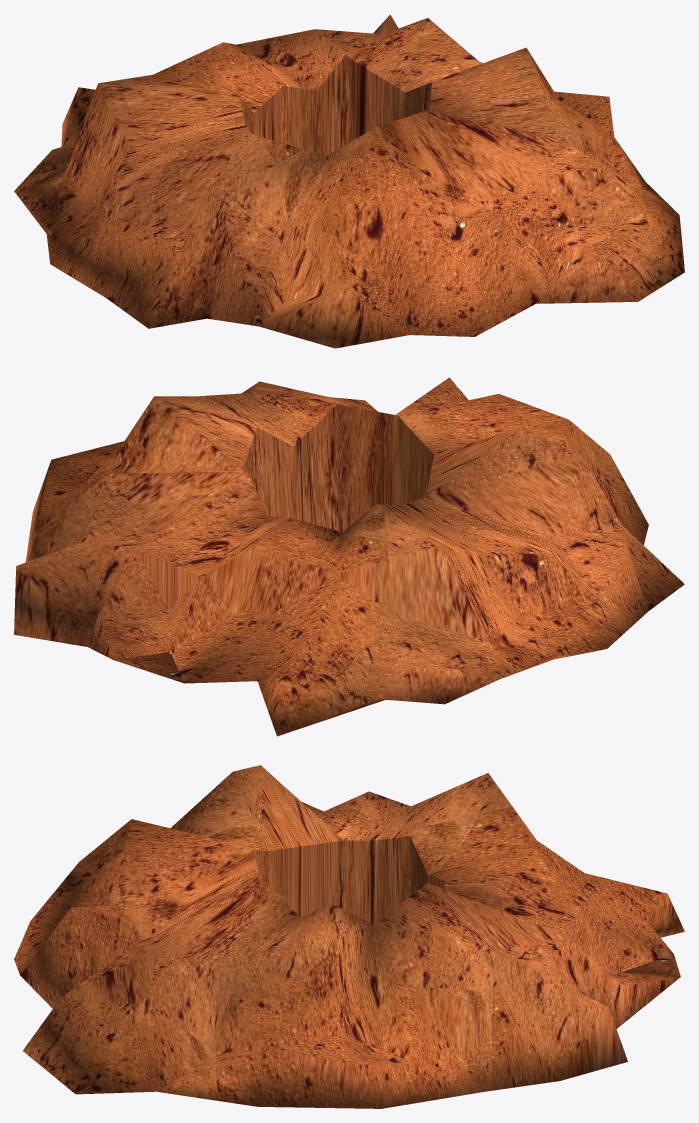
Rendered from Drill hole.obj.
3 views of the same model, one above another, from view 1: azimuth 30°, elevation 25°; view 2: azimuth 150°, elevation 25°; view 3: azimuth 270°, elevation 25° (orthographic). The views are drawn at different scales.
Visible parts, largest first — view 1: Cone; view 2: Cone; view 3: Cone.
Boxes of the visible parts, bbox=[...] form: Cone: bbox=[14, 14, 684, 348]; Cone: bbox=[14, 377, 684, 736]; Cone: bbox=[14, 765, 684, 1108].
Size of the model in its own units: 1.85 by 0.5018 by 1.93.
2 materials, 1 textured.
